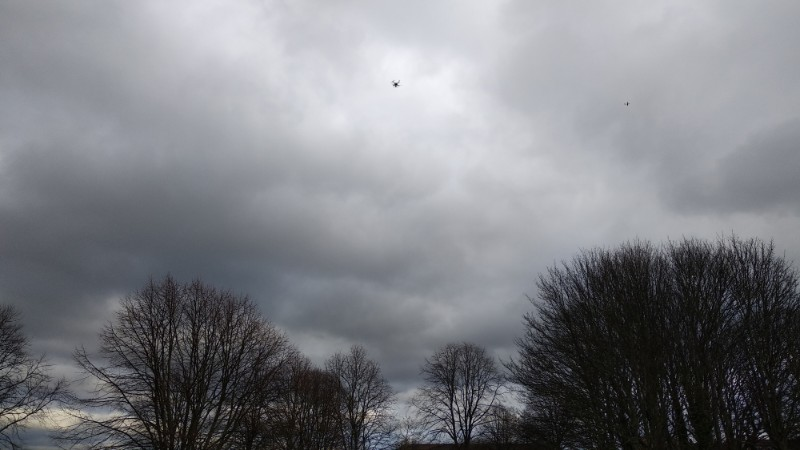drone: (391, 79, 400, 88)
